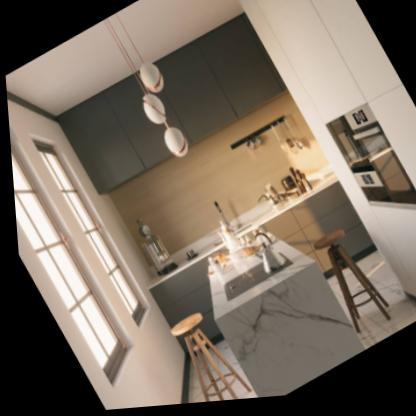Cabinet: (55, 17, 286, 197)
Window: (8, 140, 121, 388), (29, 139, 142, 331)
